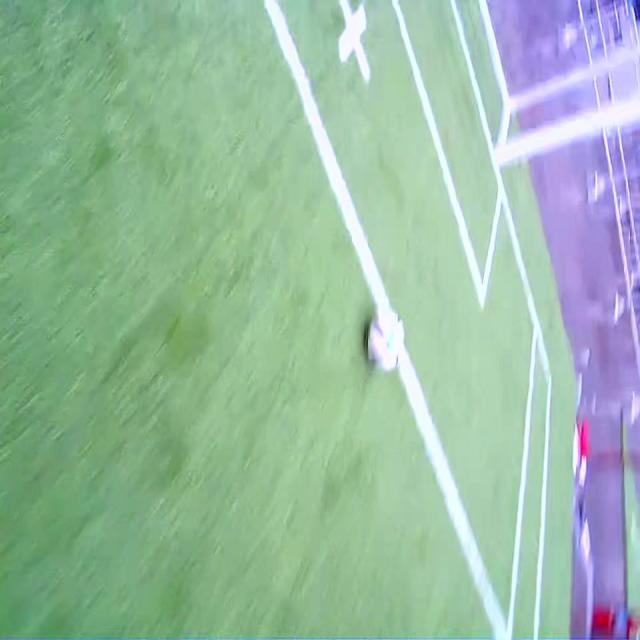ball: (368, 306, 406, 375)
